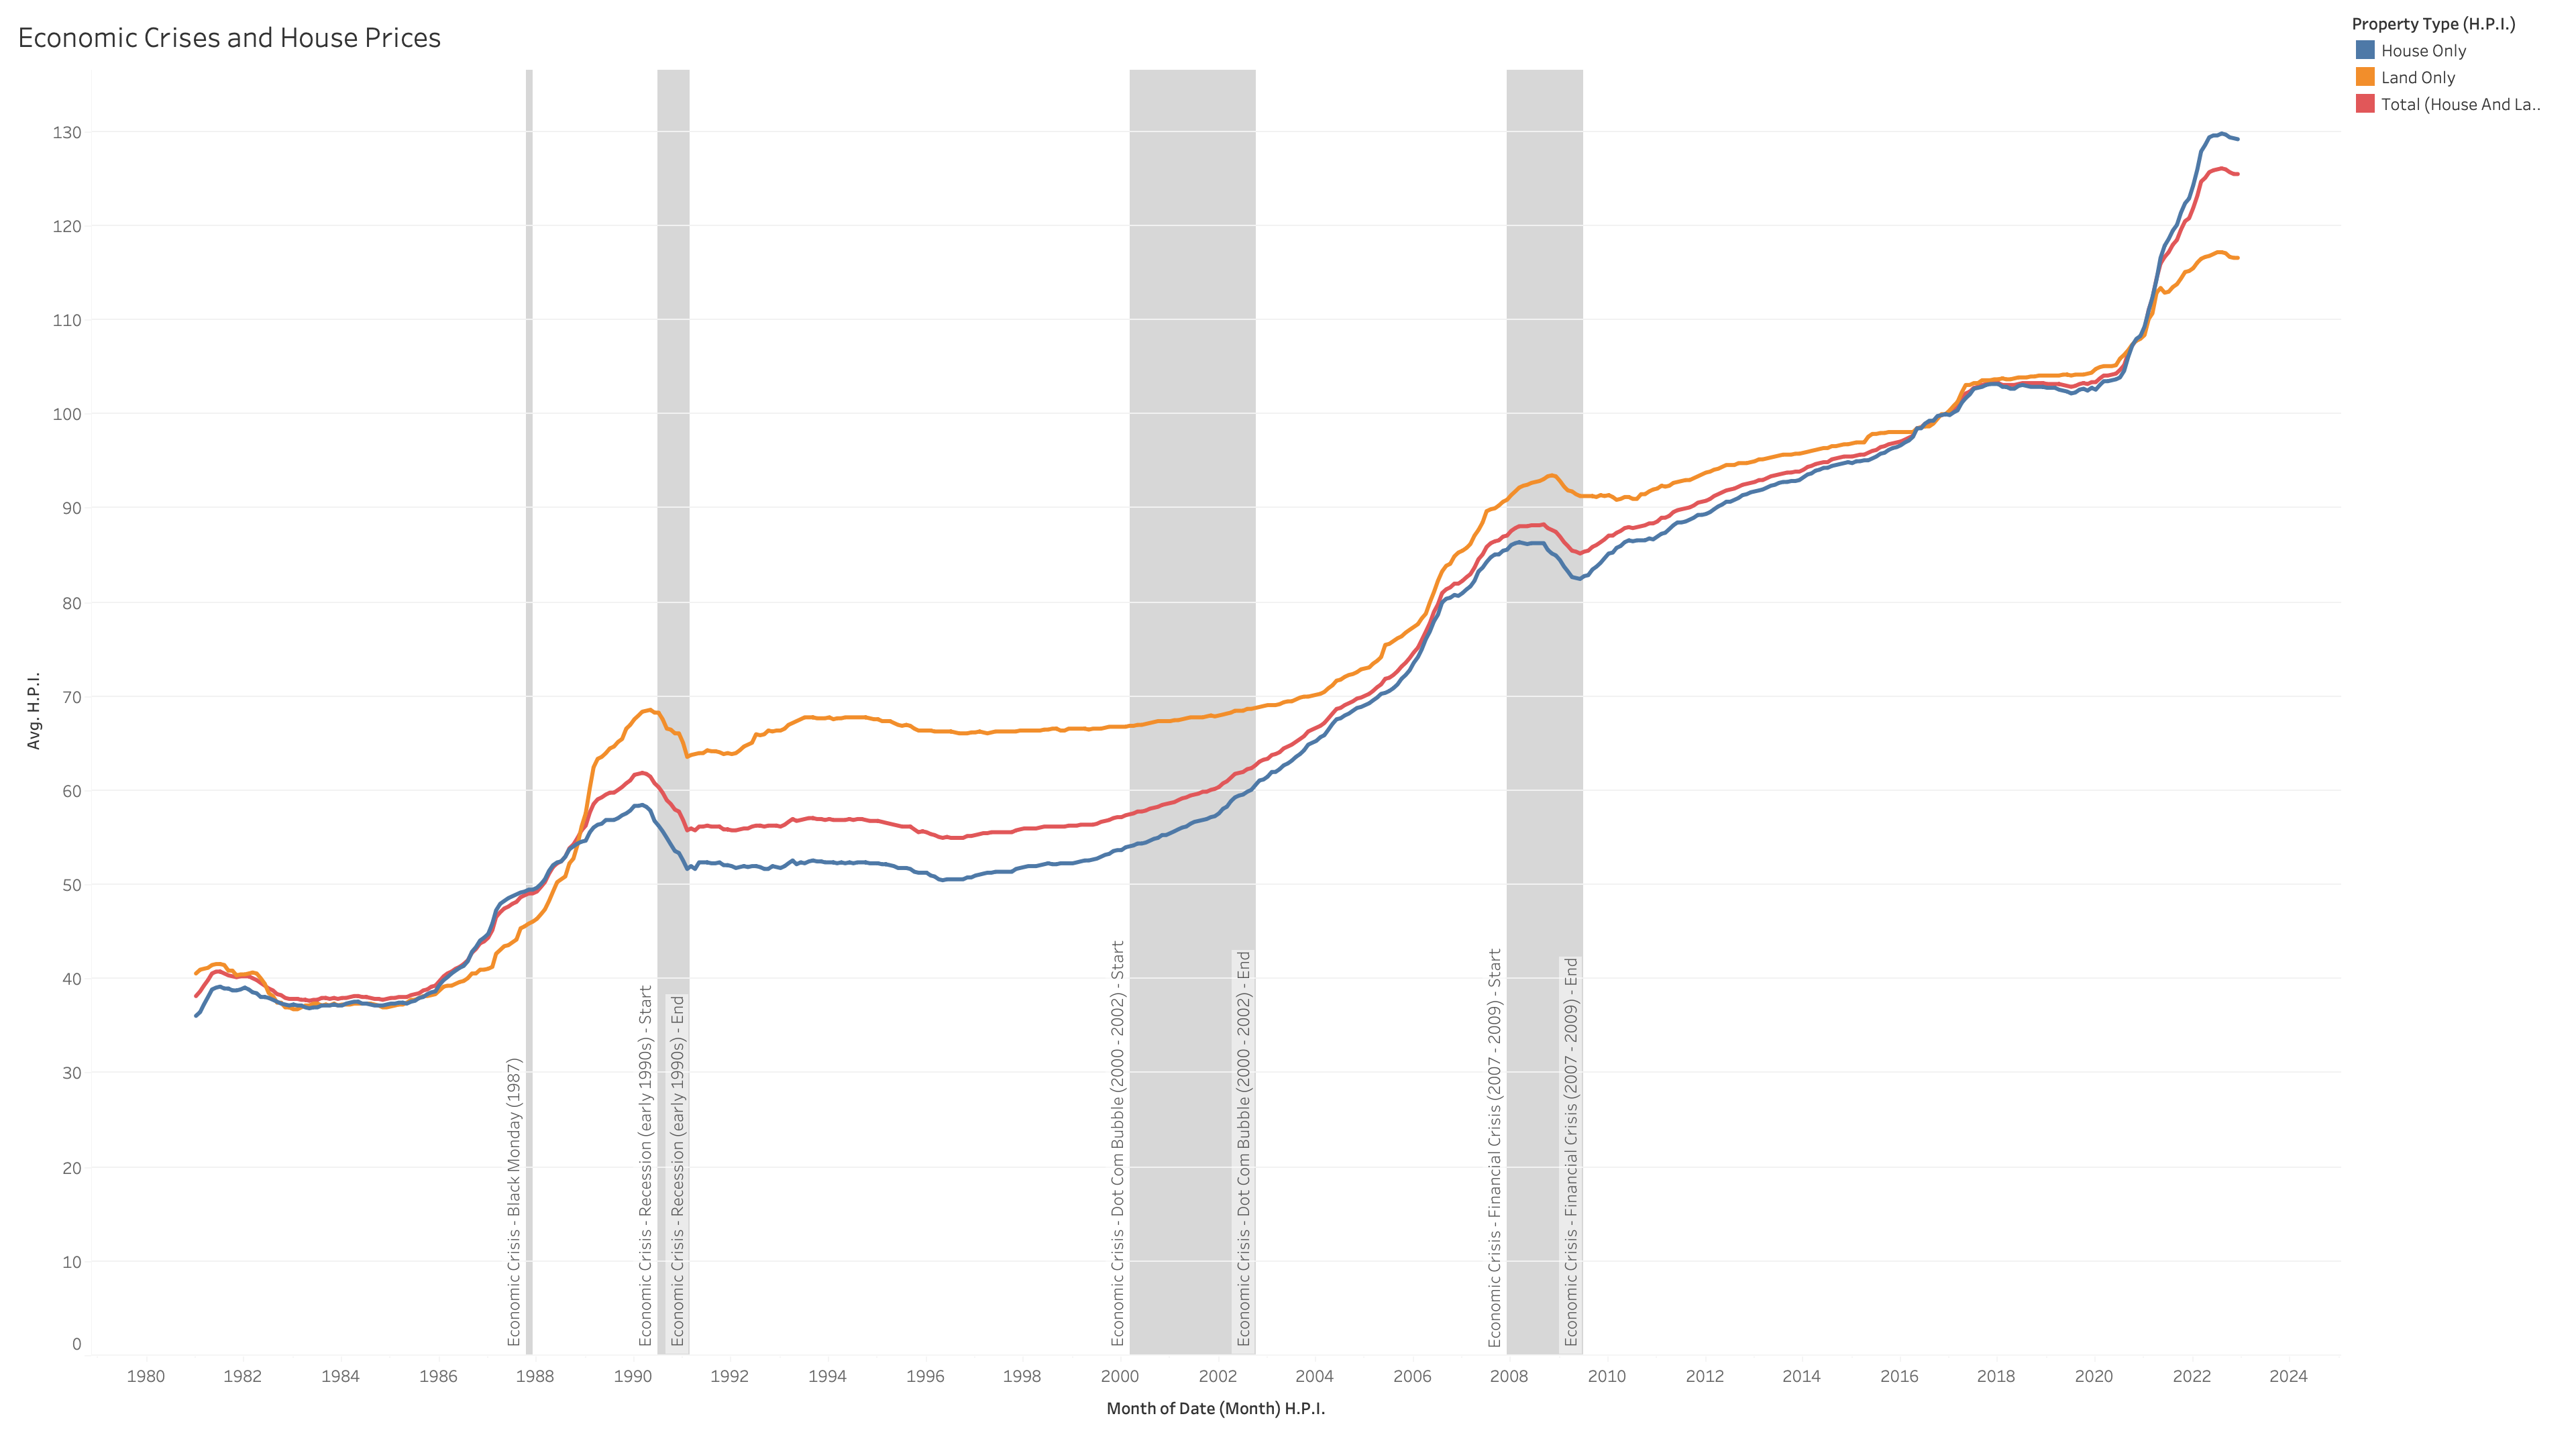

Layout of this report page (visuals, bound fields, positions):
{"tool":"tableau","page":{"name":"Dashboard Q8B","canvas":[1920,1080],"ordinal":11},"visuals":[{"type":"worksheet","title":"Economic Crises and House Prices","mark":"Automatic","rows":["H.P.I."],"cols":["Date (Month) H.P.I."],"box":[8,8,1744,1064]},{"type":"legend","title":"Economic Crises and House Prices","param":"[federated.0h3vvpx1g9mxug19i74591ak7h1p].[none:Property Type (H.P.I.):nk]","box":[1752,8,160,86]}]}

Visuals, with their boxes in screenshot pixels (x1, y1, x2, y2), scaled from the page's 1920x1080 canvas onto the 2576x1449 screenshot:
"Economic Crises and House Prices" worksheet: 11:11:2351:1438
"Economic Crises and House Prices" legend: 2351:11:2565:126
